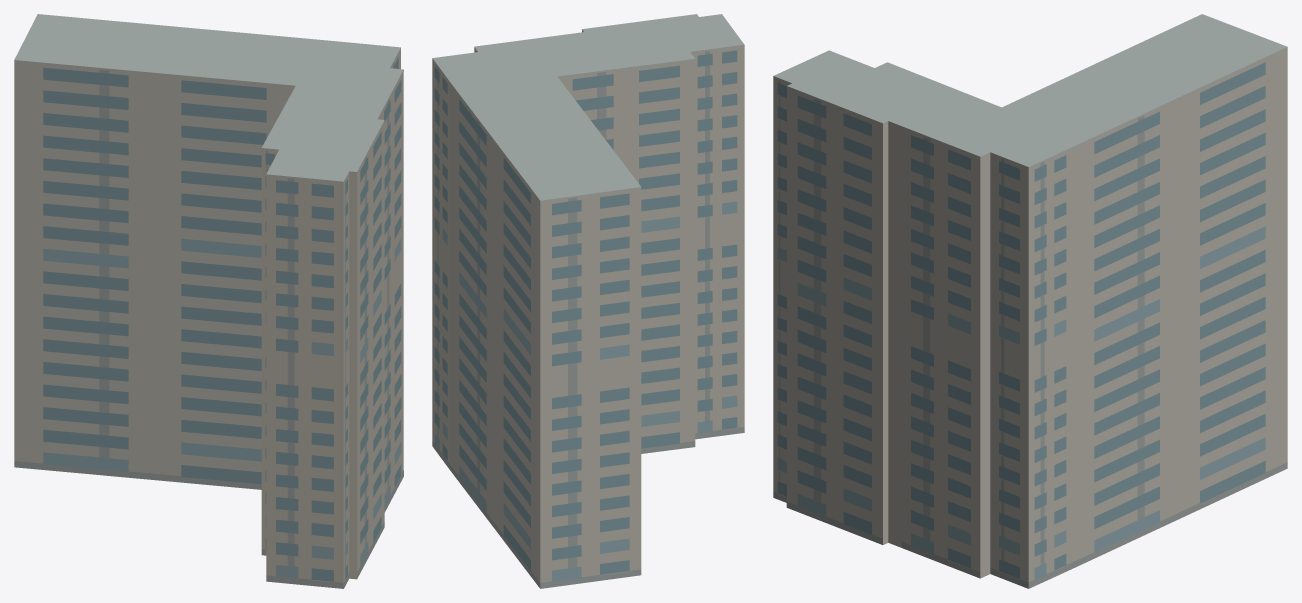
Rendered from residential-b99856e1-c089-4ec7-894f-705937d00016.glb.
The picture shows the model from 3 angles, left to right: view 1: azimuth 30°, elevation 25°; view 2: azimuth 150°, elevation 25°; view 3: azimuth 270°, elevation 25°; orthographic projection. The views are drawn at different scales.
Parts seen in each view (by area): view 1: residential-b99856e1-c089-4ec7-894f-705937d00016.tmp; view 2: residential-b99856e1-c089-4ec7-894f-705937d00016.tmp; view 3: residential-b99856e1-c089-4ec7-894f-705937d00016.tmp.
Part boxes in pixels (x1,y1,x2,y2): residential-b99856e1-c089-4ec7-894f-705937d00016.tmp: (14,14,403,588); residential-b99856e1-c089-4ec7-894f-705937d00016.tmp: (432,14,744,588); residential-b99856e1-c089-4ec7-894f-705937d00016.tmp: (773,14,1287,588).
Bounding box in the file's own units: 41.27 × 53 × 58.57.
